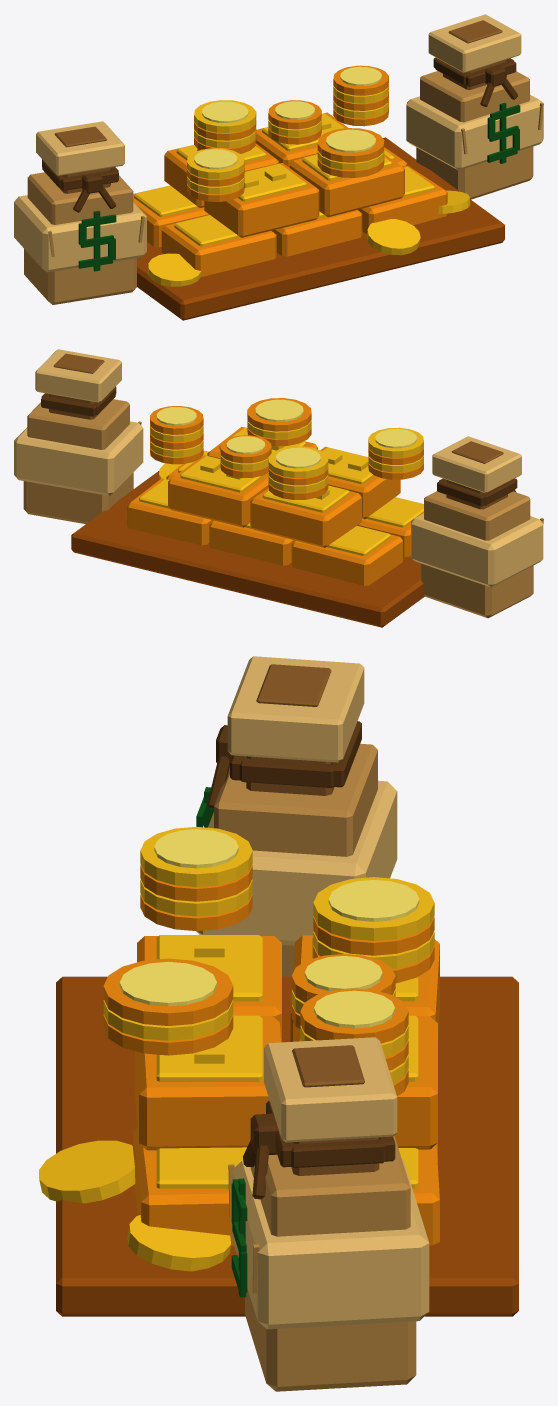
Rendered from CashStash.glb.
3 views of the same model, one above another, from view 1: azimuth 30°, elevation 25°; view 2: azimuth 150°, elevation 25°; view 3: azimuth 270°, elevation 25° (orthographic). The views are drawn at different scales.
Visible parts, largest first — view 1: CashStash; view 2: CashStash; view 3: CashStash.
Boxes of the visible parts, x1,y1,x2,y2 form: CashStash: [14, 14, 543, 320]; CashStash: [14, 349, 543, 627]; CashStash: [39, 656, 518, 1391].
Bounding box in the file's own units: 5.25 × 1.49 × 2.22.
1 material, 1 textured.
